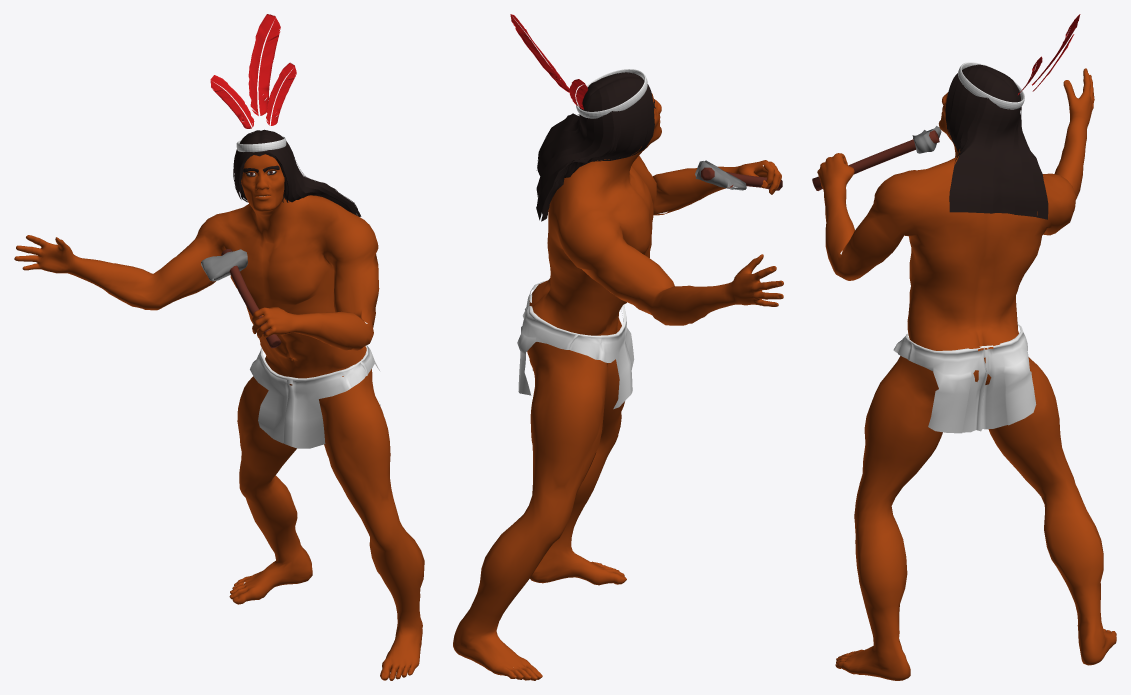
The model's file is guaikafuerte_000001.glb.
3 views of the same model, side by side, from view 1: azimuth 30°, elevation 25°; view 2: azimuth 150°, elevation 25°; view 3: azimuth 270°, elevation 25° (orthographic). The views are drawn at different scales.
Visible parts, largest first — view 1: Guaicaf:Male_muscle_13290_Guaicaf:Male_muscle_13290.001, Guaicashort:Female_casualsuit02.001, Torus.001, Guaicaf:Long01_Guaicaf:Long01.001, Plane.002; view 2: Guaicaf:Male_muscle_13290_Guaicaf:Male_muscle_13290.001, Guaicaf:Long01_Guaicaf:Long01.001, Guaicashort:Female_casualsuit02.001, Torus.001, Plane.002; view 3: Guaicaf:Male_muscle_13290_Guaicaf:Male_muscle_13290.001, Guaicaf:Long01_Guaicaf:Long01.001, Guaicashort:Female_casualsuit02.001, Plane.002, Torus.001.
Part boxes in pixels (<box>): Guaicaf:Male_muscle_13290_Guaicaf:Male_muscle_13290.001: <box>14,154,424,680</box>; Guaicashort:Female_casualsuit02.001: <box>250,345,380,448</box>; Torus.001: <box>210,14,296,152</box>; Guaicaf:Long01_Guaicaf:Long01.001: <box>233,129,361,216</box>; Plane.002: <box>201,248,281,348</box>; Guaicaf:Male_muscle_13290_Guaicaf:Male_muscle_13290.001: <box>453,93,783,680</box>; Guaicaf:Long01_Guaicaf:Long01.001: <box>536,72,654,221</box>; Guaicashort:Female_casualsuit02.001: <box>517,281,634,409</box>; Torus.001: <box>510,14,647,118</box>; Plane.002: <box>695,160,782,190</box>; Guaicaf:Male_muscle_13290_Guaicaf:Male_muscle_13290.001: <box>817,68,1116,680</box>; Guaicaf:Long01_Guaicaf:Long01.001: <box>945,64,1048,219</box>; Guaicashort:Female_casualsuit02.001: <box>893,324,1036,433</box>; Plane.002: <box>812,126,941,190</box>; Torus.001: <box>958,14,1080,109</box>.
Bounding box in the file's own units: 5.3 × 9.43 × 4.06.
